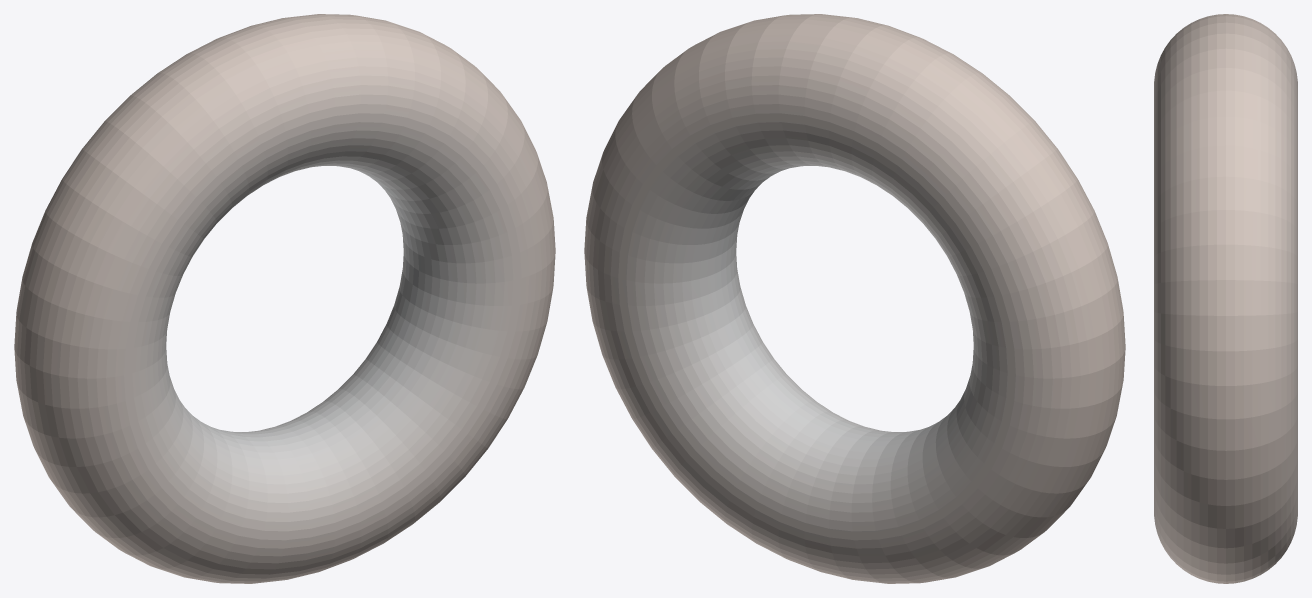
The picture shows the model from 3 angles, left to right: view 1: azimuth 30°, elevation 25°; view 2: azimuth 150°, elevation 25°; view 3: azimuth 270°, elevation 25°; orthographic projection. The views are drawn at different scales.
Parts seen in each view (by area): view 1: world; view 2: world; view 3: world.
Boxes of the visible parts, left/top/right/bottom form: world: left=14, top=14, right=555, bottom=583; world: left=584, top=14, right=1125, bottom=583; world: left=1154, top=14, right=1297, bottom=583.
Size of the model in its own units: 25.87 by 25.82 by 6.52.
